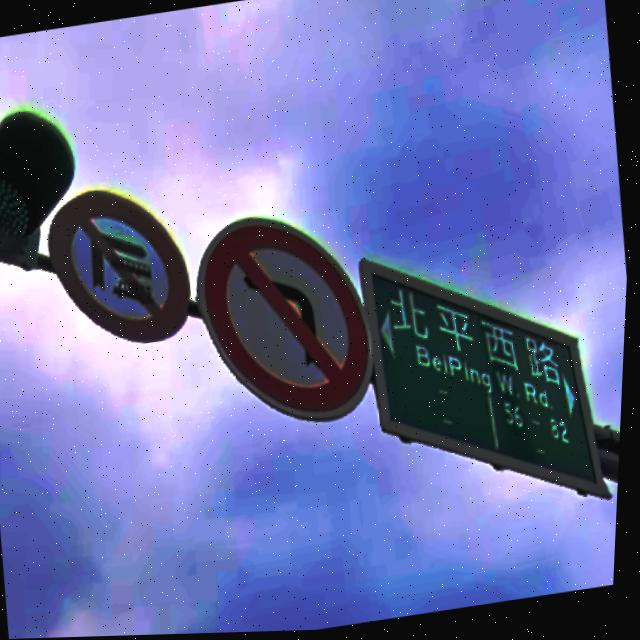noturnleft: (206, 225, 372, 415)
